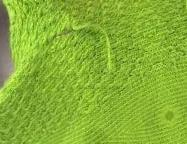snag: (71, 18, 117, 74)
